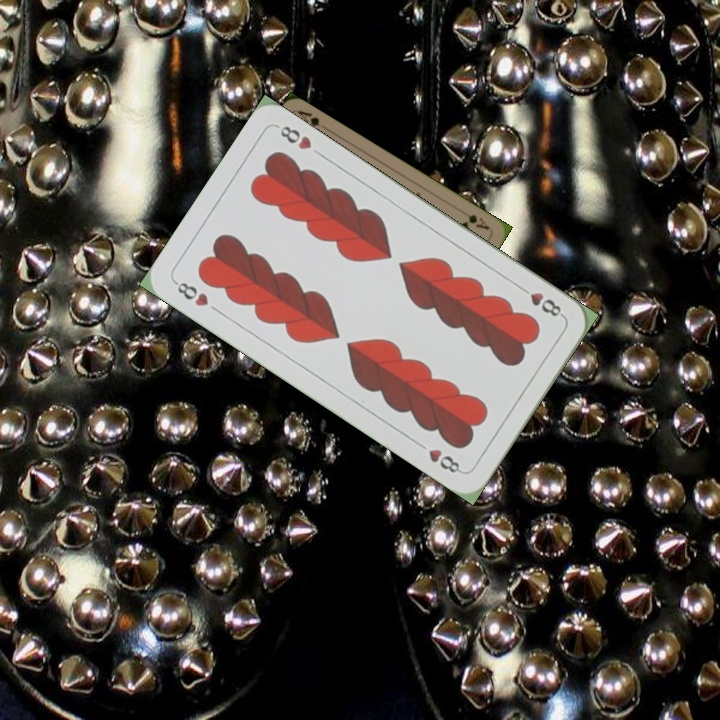GA: (456, 205, 492, 232)
H8: (514, 282, 567, 320), (170, 277, 211, 310)
